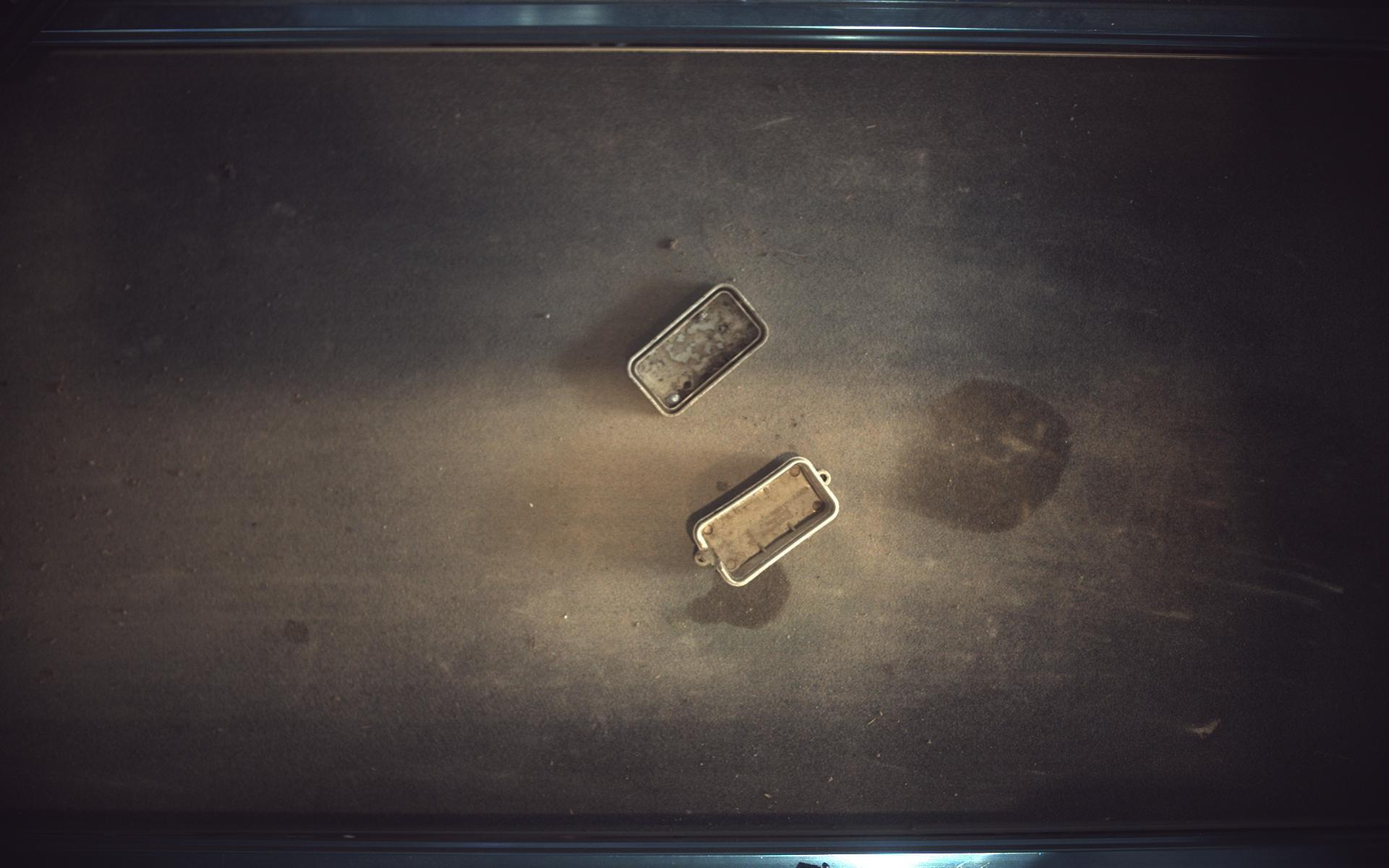plastic: (688, 454, 841, 587), (629, 282, 770, 417)
